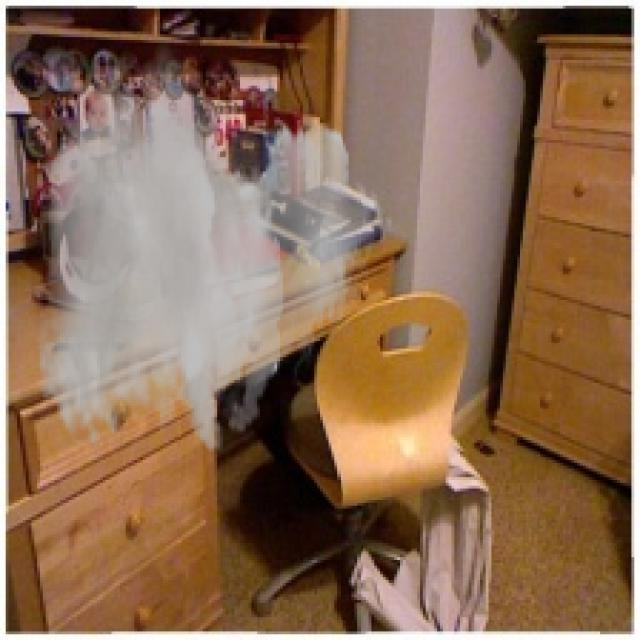smoke: (37, 34, 394, 454)
